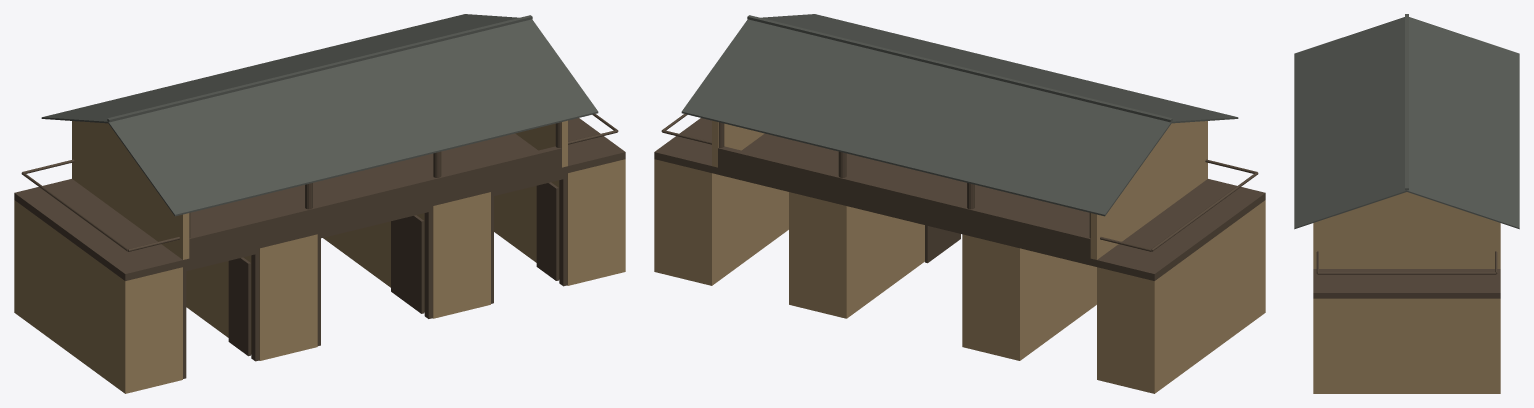
The model's file is shangdong-S-LOD2.glb.
The picture shows the model from 3 angles, left to right: view 1: azimuth 30°, elevation 25°; view 2: azimuth 150°, elevation 25°; view 3: azimuth 270°, elevation 25°; orthographic projection. The views are drawn at different scales.
Visible parts, largest first — view 1: shangdong-S-static_tile, shangdong-S-static_earth, shangdong-S-static_timber; view 2: shangdong-S-static_earth, shangdong-S-static_tile, shangdong-S-static_timber; view 3: shangdong-S-static_tile, shangdong-S-static_earth, shangdong-S-static_timber.
Part boxes in pixels (x1,y1,x2,y2): shangdong-S-static_tile: (41,14,598,216); shangdong-S-static_earth: (14,120,625,393); shangdong-S-static_timber: (14,114,625,378); shangdong-S-static_earth: (654,120,1265,393); shangdong-S-static_tile: (681,14,1238,216); shangdong-S-static_timber: (654,114,1265,280); shangdong-S-static_tile: (1294,14,1519,229); shangdong-S-static_earth: (1313,192,1500,393); shangdong-S-static_timber: (1313,251,1500,298).
Size of the model in its own units: 26 by 11.16 by 12.
